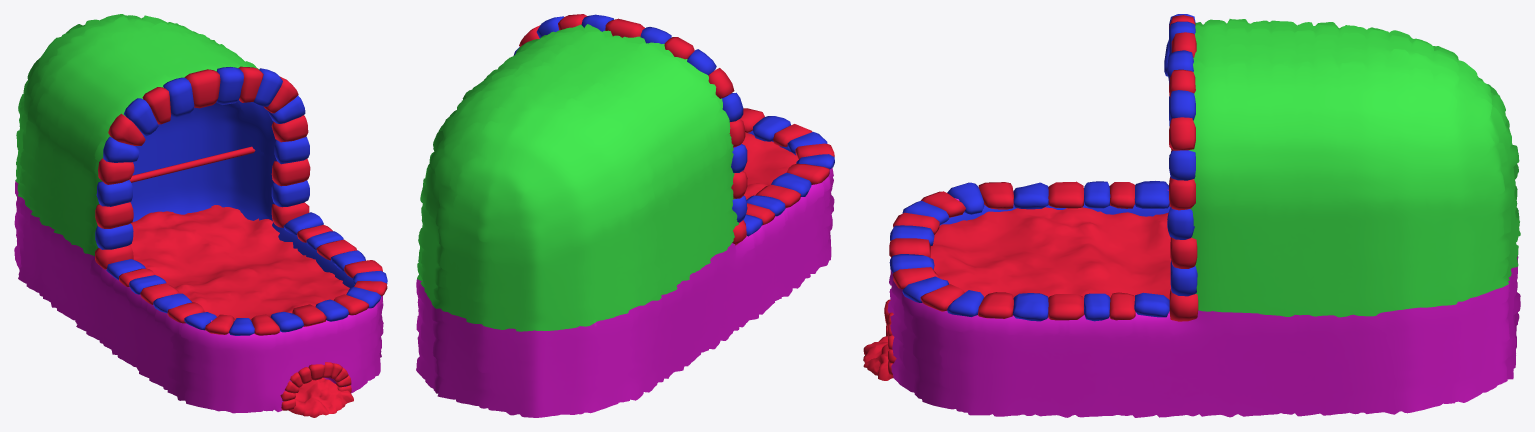
Rendered from SM_BS_Forge_1.fbx.
The picture shows the model from 3 angles, left to right: view 1: azimuth 30°, elevation 25°; view 2: azimuth 150°, elevation 25°; view 3: azimuth 270°, elevation 25°; orthographic projection. The views are drawn at different scales.
Parts seen in each view (by area): view 1: Forge1; view 2: Forge1; view 3: Forge1.
Part boxes in pixels (x1=…): Forge1: x1=14, y1=14, x2=387, y2=417; Forge1: x1=416, y1=14, x2=834, y2=417; Forge1: x1=863, y1=14, x2=1520, y2=417.
Size of what is drawn, in the model's own units: 232 by 266 by 491.
